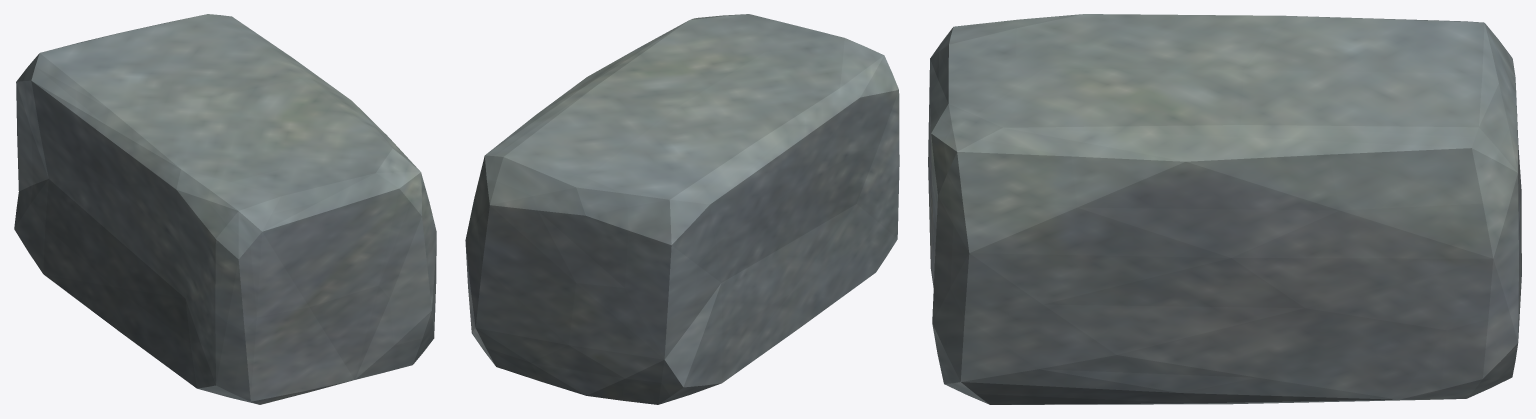
File: rocks_009.fbx
3 views of the same model, side by side, from view 1: azimuth 30°, elevation 25°; view 2: azimuth 150°, elevation 25°; view 3: azimuth 270°, elevation 25° (orthographic). The views are drawn at different scales.
Parts seen in each view (by area): view 1: rocks.009; view 2: rocks.009; view 3: rocks.009.
Part boxes in pixels (x1=…): rocks.009: x1=14, y1=14, x2=436, y2=404; rocks.009: x1=465, y1=14, x2=899, y2=404; rocks.009: x1=928, y1=14, x2=1521, y2=404.
Size of the model in its own units: 34.19 by 30.93 by 59.75.
